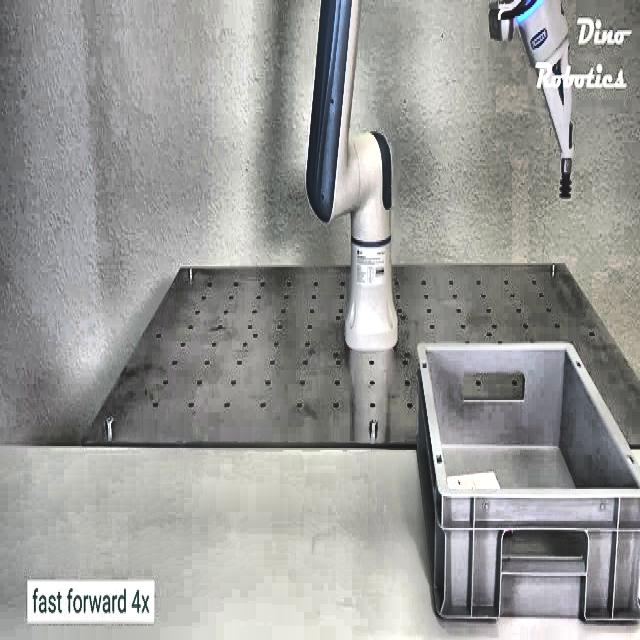robot: (299, 0, 585, 372)
